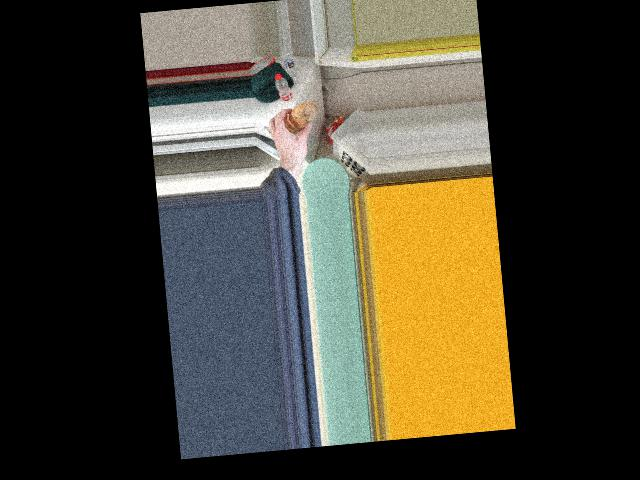sweet_potato: (285, 99, 318, 133)
